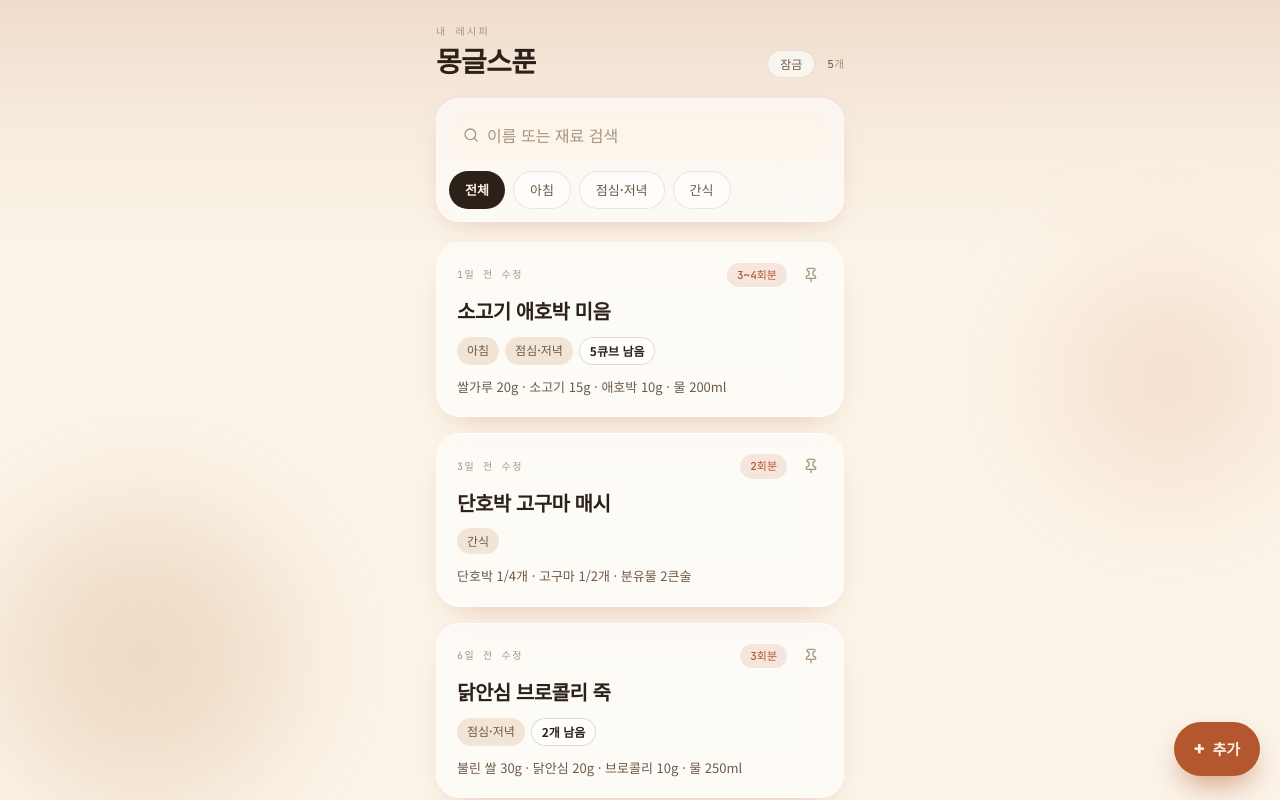
RecipeListScreen › counts the filtered results, not every recipe
Expected: the heading "소고기 애호박 미음" is shown, [457,296,610,325]
Expected: the element with test id "recipe-count" reads "5개", [827,56,844,72]
Click the button "간식": (702, 190) [673,171,730,208]
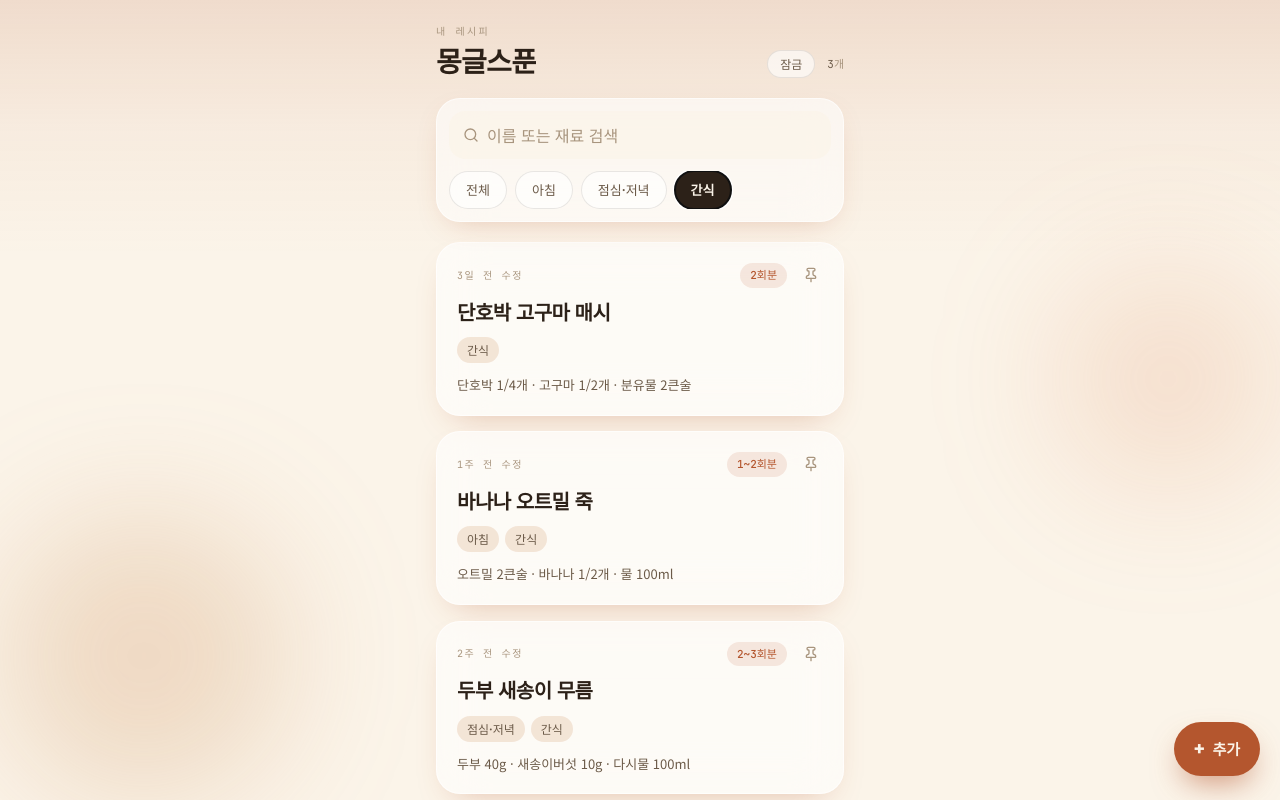
Expected: the element with test id "recipe-count" reads "3개", [827,56,844,72]
In the field labelled "이름 또는 재료 검색": (652, 135) [487,123,817,147], type "단호박"
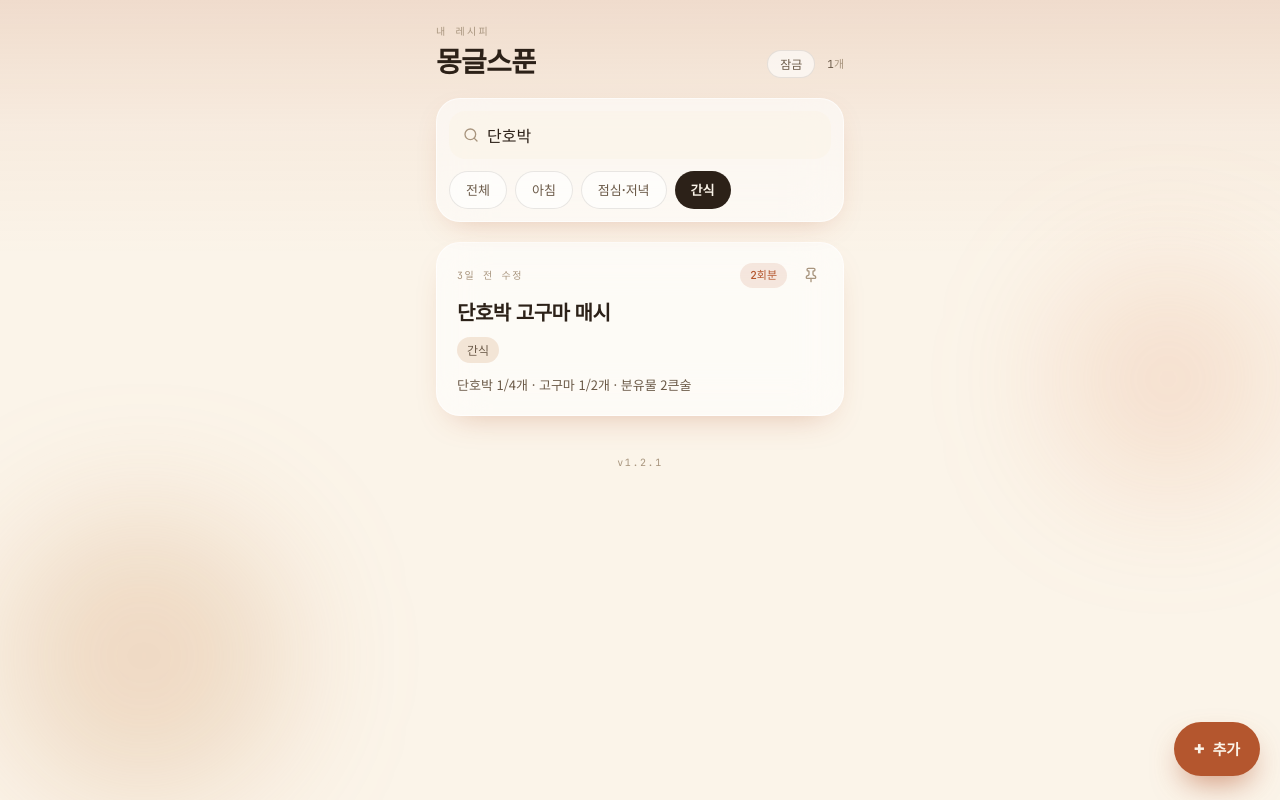
Expected: the element with test id "recipe-count" reads "1개", [827,56,844,72]
